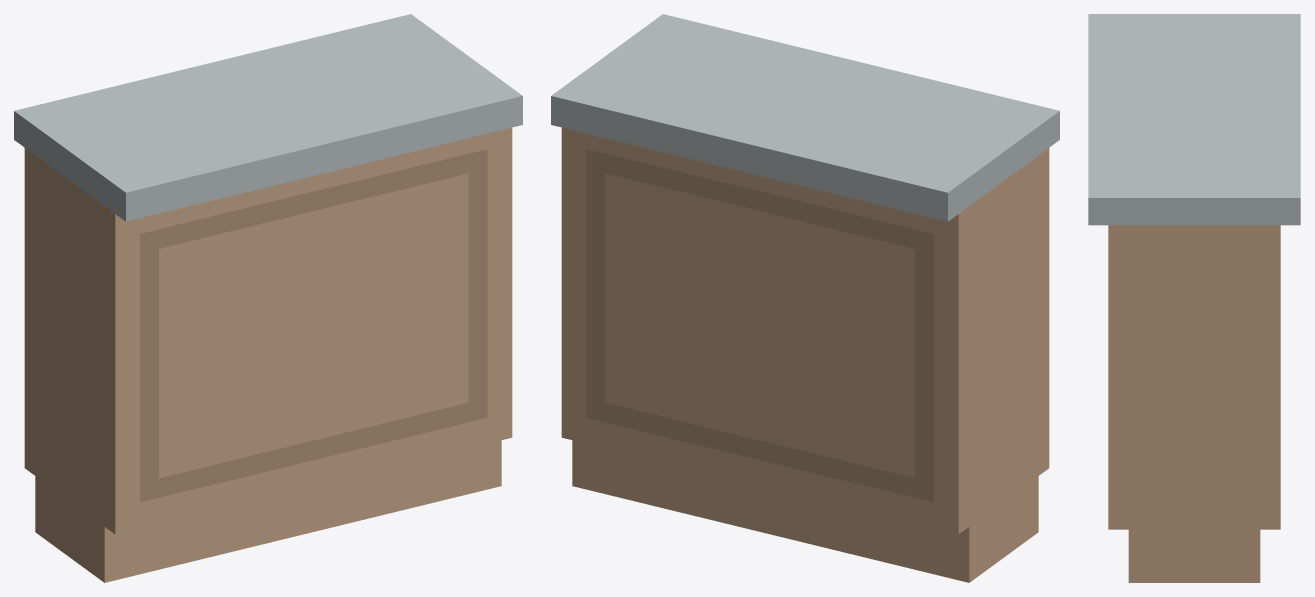
Rendered from kitchenBar.glb.
The picture shows the model from 3 angles, left to right: view 1: azimuth 30°, elevation 25°; view 2: azimuth 150°, elevation 25°; view 3: azimuth 270°, elevation 25°; orthographic projection. The views are drawn at different scales.
Parts seen in each view (by area): view 1: kitchenBar; view 2: kitchenBar; view 3: kitchenBar.
Boxes of the visible parts, x1=… form: kitchenBar: x1=14, y1=14, x2=522, y2=582; kitchenBar: x1=551, y1=14, x2=1059, y2=582; kitchenBar: x1=1088, y1=14, x2=1300, y2=582.
Bounding box in the file's own units: 0.43 × 0.42 × 0.21.
